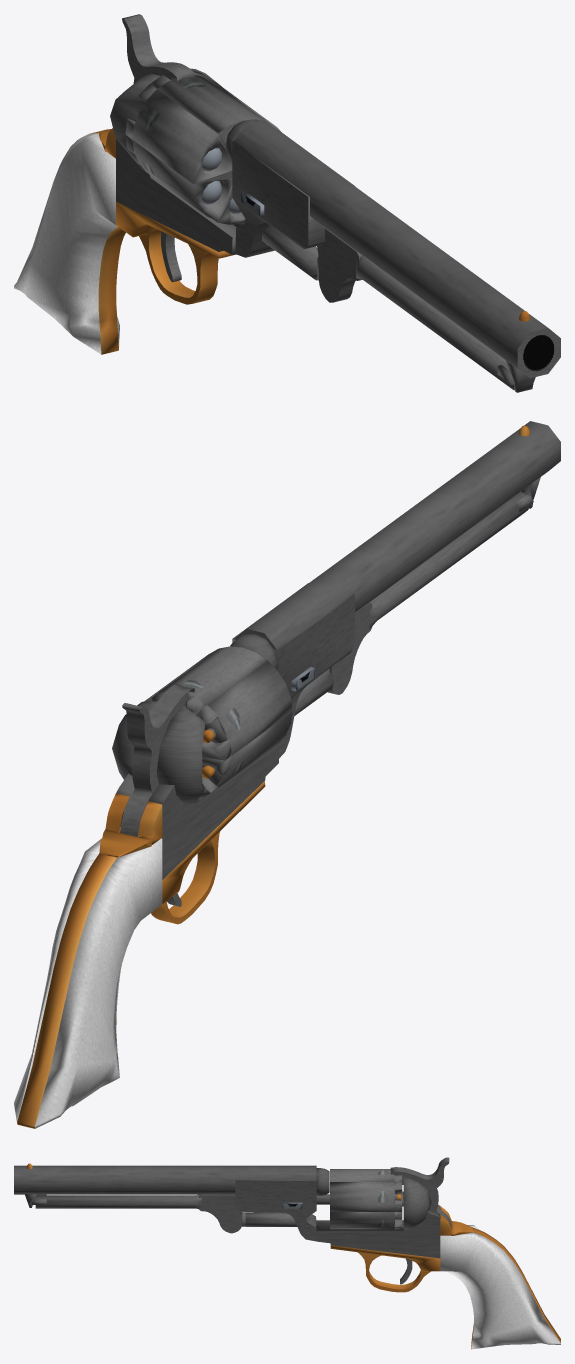
Rendered from 1851navy.fbx.
3 views of the same model, one above another, from view 1: azimuth 30°, elevation 25°; view 2: azimuth 150°, elevation 25°; view 3: azimuth 270°, elevation 25° (orthographic). The views are drawn at different scales.
Visible parts, largest first — view 1: Regroup12; view 2: Regroup12; view 3: Regroup12.
Part boxes in pixels (x1,y1,x2,y2): Regroup12: [14, 14, 560, 392]; Regroup12: [14, 421, 560, 1128]; Regroup12: [14, 1157, 560, 1349].
Bounding box in the file's own units: 1.36 × 4.39 × 11.59.
Materials: 1 (1 with a texture image).
